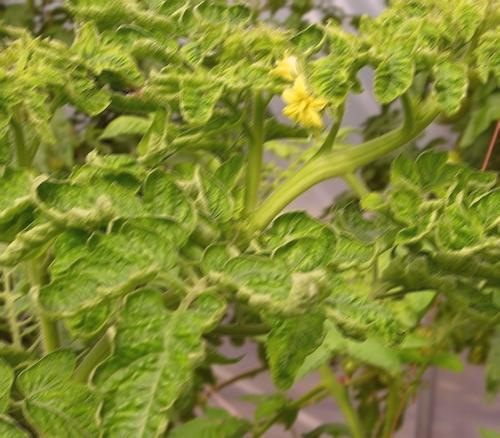Tomato leaf yellow virus: (90, 284, 222, 438), (34, 229, 172, 321), (267, 198, 382, 294), (199, 245, 297, 319), (115, 166, 205, 245), (181, 169, 244, 232), (69, 41, 151, 86), (417, 54, 464, 124), (365, 51, 419, 108), (174, 77, 232, 126)
